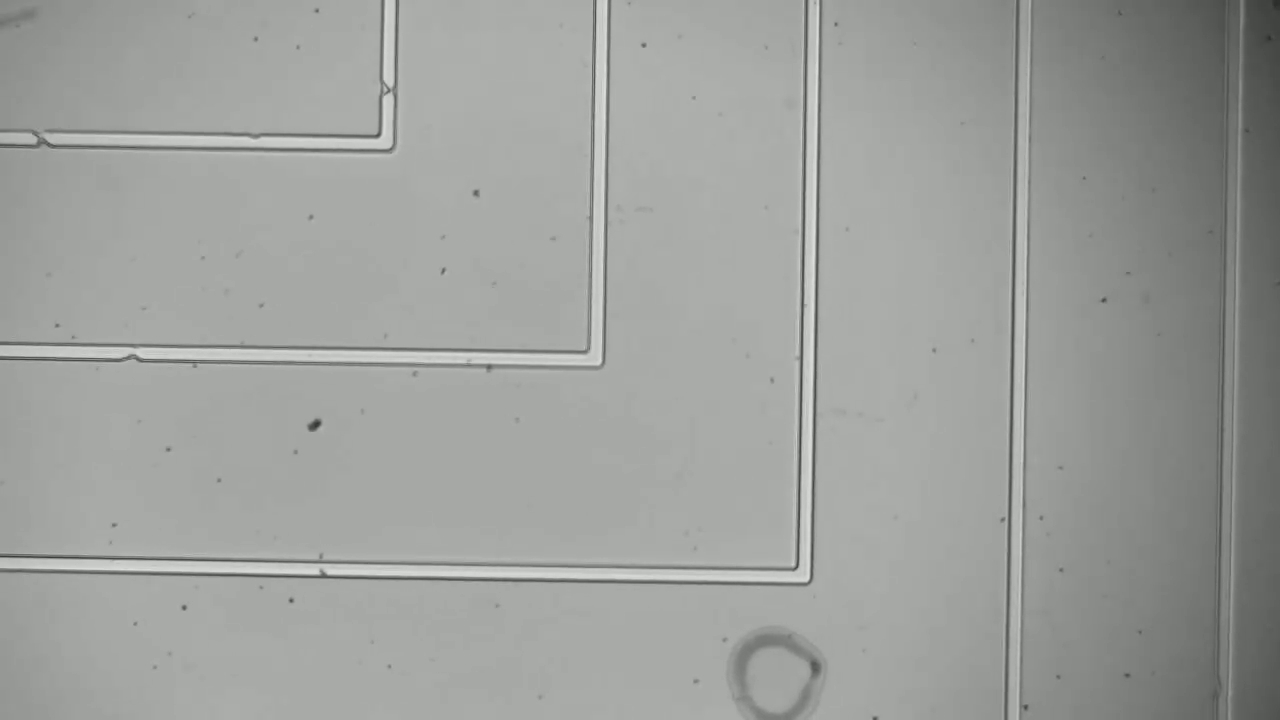edge_bite: (113, 334, 152, 367), (374, 72, 405, 102)
open: (24, 119, 58, 156)
